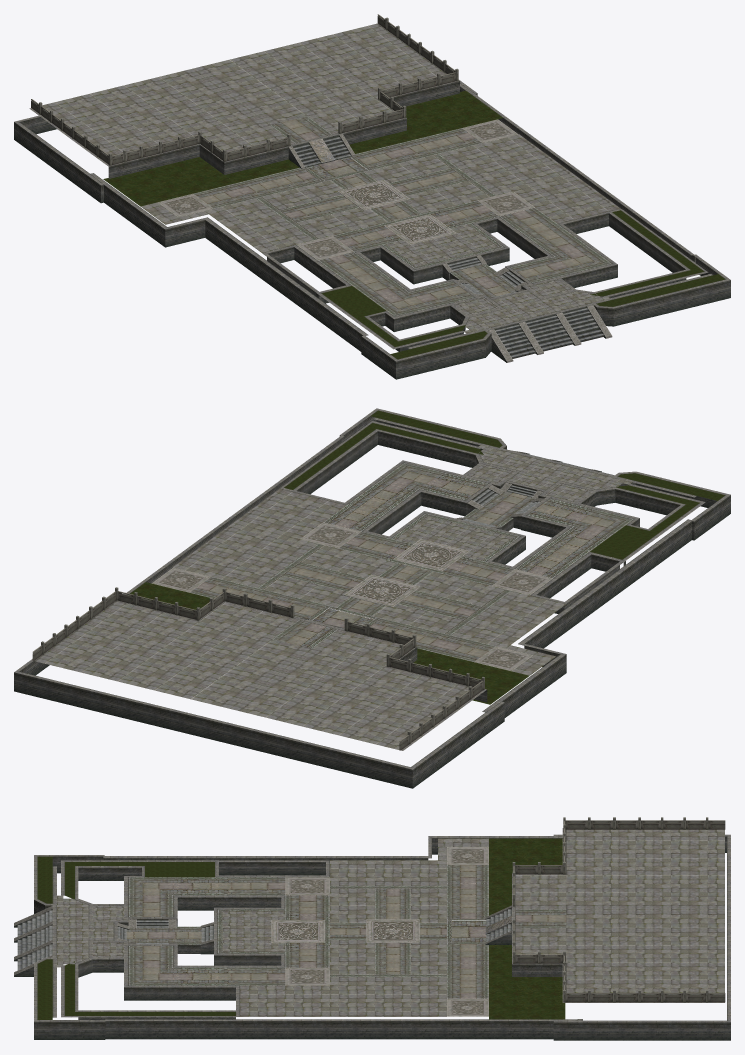
Rendered from XCZ_Ground_diji.FBX.
The picture shows the model from 3 angles, top to bottom: view 1: azimuth 30°, elevation 25°; view 2: azimuth 150°, elevation 25°; view 3: azimuth 270°, elevation 25°; orthographic projection. The views are drawn at different scales.
Parts seen in each view (by area): view 1: XCZ_Ground_diji; view 2: XCZ_Ground_diji; view 3: XCZ_Ground_diji.
Boxes of the visible parts, <box> form: XCZ_Ground_diji: <box>14,14,730,379</box>; XCZ_Ground_diji: <box>14,408,730,788</box>; XCZ_Ground_diji: <box>14,817,730,1040</box>.
Bounding box in the file's own units: 6588 × 714 × 10633.
